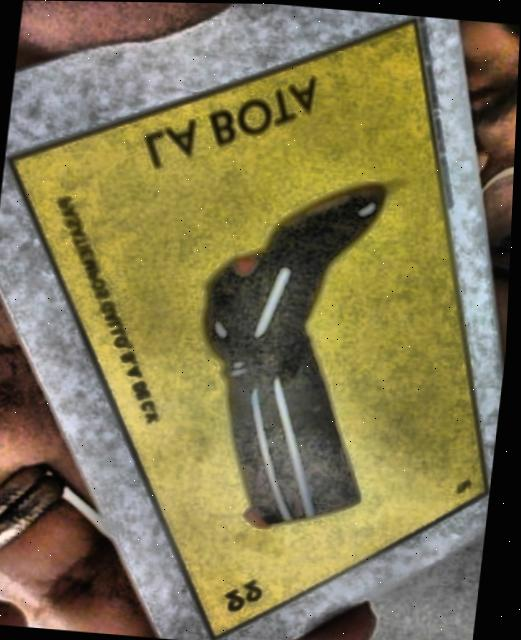La Bota: (13, 19, 492, 639)
